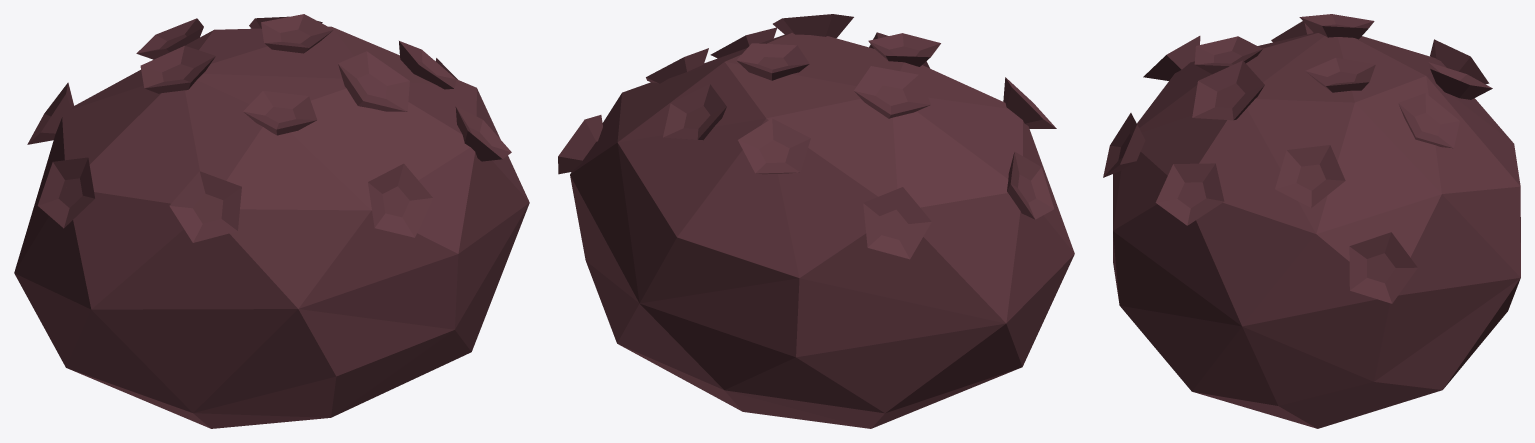
The model's file is shrub-flowers.fbx.
3 renders of one model, left to right at view 1: azimuth 30°, elevation 25°; view 2: azimuth 150°, elevation 25°; view 3: azimuth 270°, elevation 25°, orthographic. The views are drawn at different scales.
Visible parts, largest first — view 1: shrub-flowers; view 2: shrub-flowers; view 3: shrub-flowers.
Boxes of the visible parts, left/top/right/bottom form: shrub-flowers: left=14, top=14, right=529, bottom=428; shrub-flowers: left=558, top=14, right=1074, bottom=428; shrub-flowers: left=1103, top=14, right=1520, bottom=428.
Size of the model in its own units: 1.26 by 0.9312 by 1.05.
